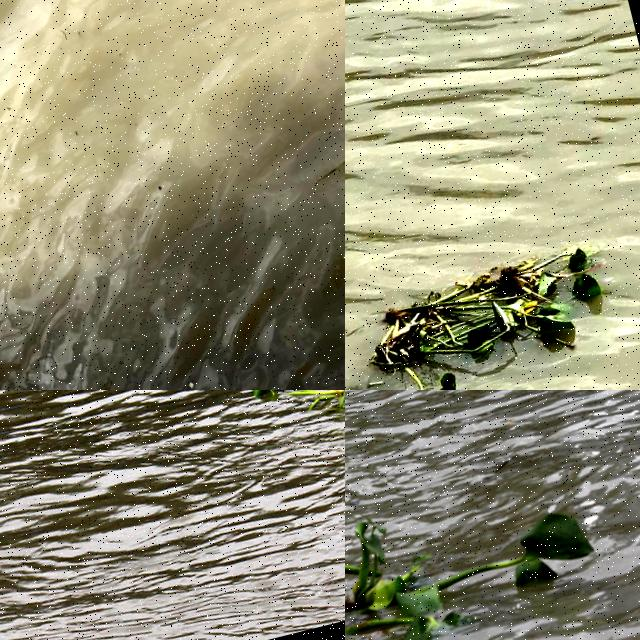water-hyacinth: (346, 440, 612, 640), (355, 234, 624, 391), (242, 391, 346, 450)
